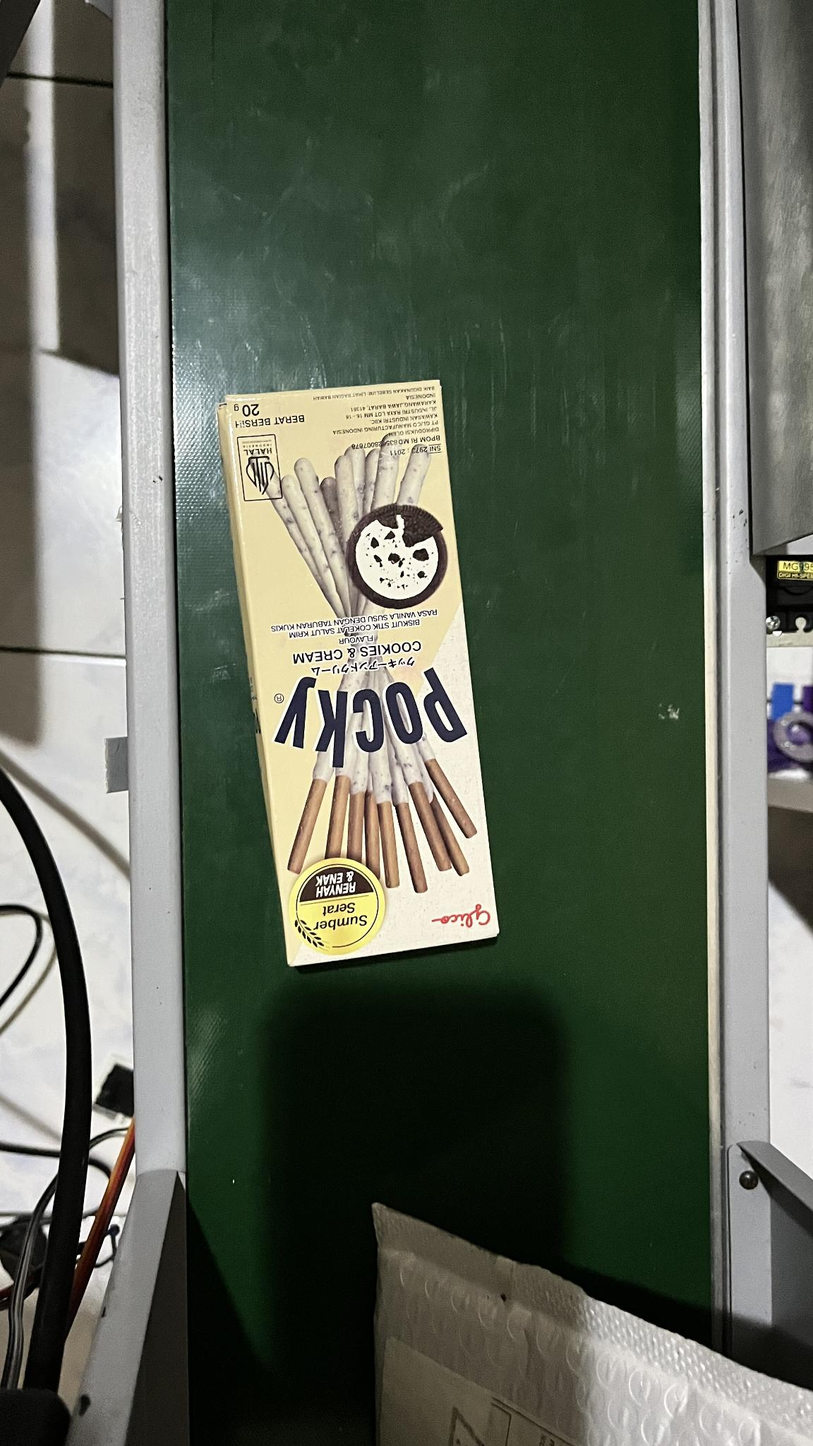Kertas: (233, 402, 495, 940)
